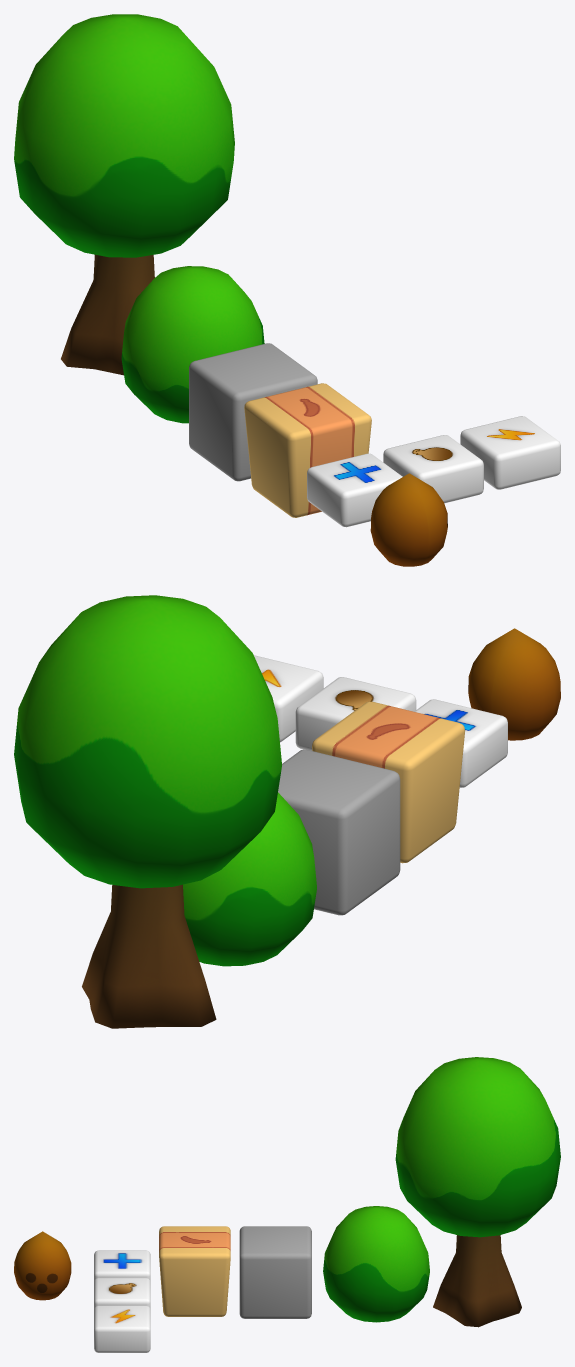
The model's file is items.fbx.
3 renders of one model, top to bottom at view 1: azimuth 30°, elevation 25°; view 2: azimuth 150°, elevation 25°; view 3: azimuth 270°, elevation 25°, orthographic. The views are drawn at different scales.
Visible parts, largest first — view 1: Three, Bush, WoodenBlock, Stone, Bomb, SpeedBoost, BombBoost, MoreBombs; view 2: Three, Bush, Stone, WoodenBlock, Bomb, MoreBombs, BombBoost, SpeedBoost; view 3: Three, Bush, Stone, WoodenBlock, Bomb, SpeedBoost, MoreBombs, BombBoost.
Part boxes in pixels (x1,y1,x2,y2): Three: (14, 14, 234, 375); Bush: (121, 266, 264, 423); WoodenBlock: (244, 383, 371, 517); Stone: (189, 343, 317, 481); Bomb: (370, 473, 447, 566); SpeedBoost: (460, 416, 560, 489); BombBoost: (307, 453, 402, 527); MoreBombs: (383, 435, 483, 503); Three: (14, 595, 281, 1028); Bush: (183, 792, 316, 966); Stone: (278, 749, 400, 915); WoodenBlock: (312, 701, 464, 863); Bomb: (468, 628, 560, 740); MoreBombs: (295, 677, 416, 750); BombBoost: (414, 699, 507, 787); SpeedBoost: (253, 655, 323, 742); Three: (395, 1057, 560, 1327); Bush: (323, 1206, 429, 1322); Stone: (239, 1226, 311, 1318); WoodenBlock: (159, 1226, 230, 1316); Bomb: (14, 1231, 71, 1300); SpeedBoost: (94, 1305, 150, 1352); MoreBombs: (94, 1278, 150, 1309); BombBoost: (94, 1250, 150, 1281).
Size of the model in its own units: 649 by 755 by 1512.
Materials: 8 (8 with a texture image).
